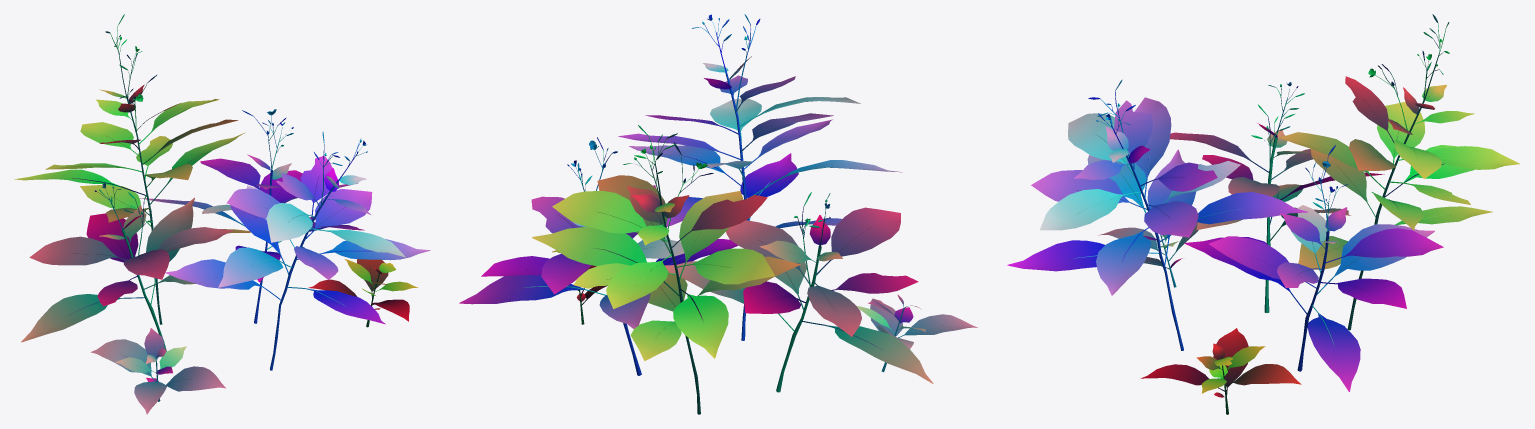
Rendered from xefmcgrqx_VarG_LOD0.fbx.
3 renders of one model, left to right at view 1: azimuth 30°, elevation 25°; view 2: azimuth 150°, elevation 25°; view 3: azimuth 270°, elevation 25°, orthographic. The views are drawn at different scales.
Visible parts, largest first — view 1: _xebr_VarG_LOD1; view 2: _xebr_VarG_LOD1; view 3: _xebr_VarG_LOD1.
Boxes of the visible parts, <box> form: _xebr_VarG_LOD1: <box>14,14,430,414</box>; _xebr_VarG_LOD1: <box>459,14,977,414</box>; _xebr_VarG_LOD1: <box>1007,14,1519,414</box>.
Size of the model in its own units: 72.84 by 51.75 by 76.74.
